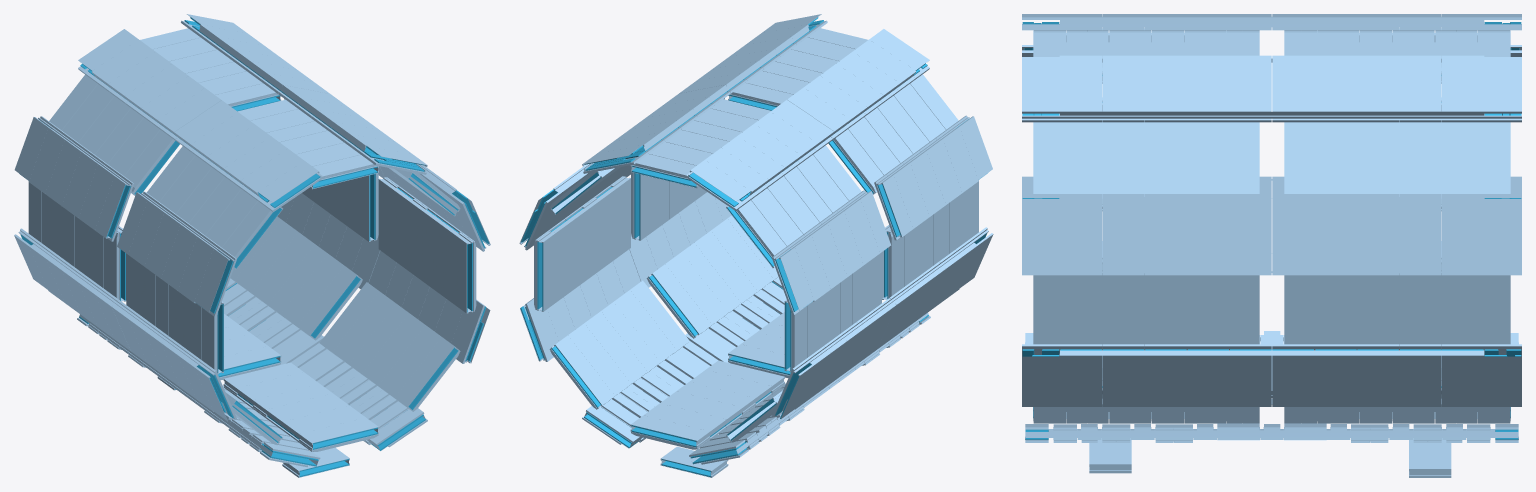
Rendered from barrel_outer_vr.glb.
3 renders of one model, left to right at view 1: azimuth 30°, elevation 25°; view 2: azimuth 150°, elevation 25°; view 3: azimuth 270°, elevation 25°, orthographic. The views are drawn at different scales.
Visible parts, largest first — view 1: external, internal; view 2: external, internal; view 3: external, internal.
Part boxes in pixels (x1=…): external: x1=14, y1=14, x2=490, y2=477; internal: x1=19, y1=17, x2=489, y2=476; external: x1=519, y1=14, x2=993, y2=477; internal: x1=520, y1=17, x2=987, y2=477; external: x1=1022, y1=14, x2=1521, y2=477; internal: x1=1022, y1=22, x2=1521, y2=439.
Bounding box in the file's own units: 21.5 × 24.1 × 25.69.
